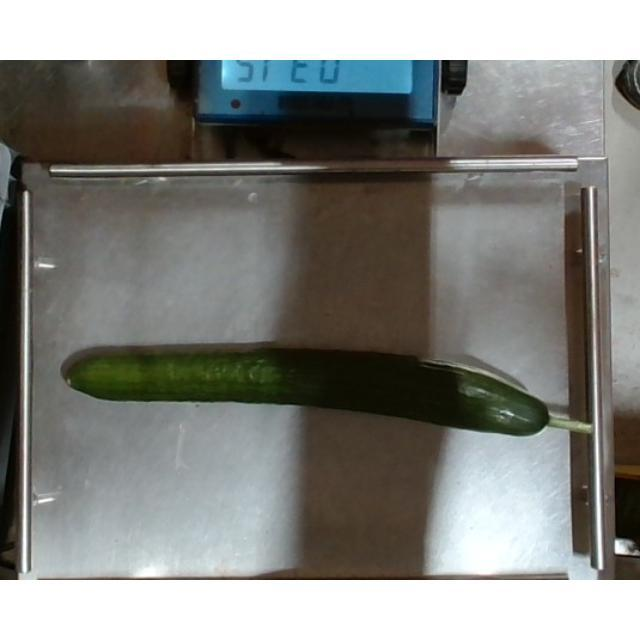cucumber: (63, 343, 595, 442)
